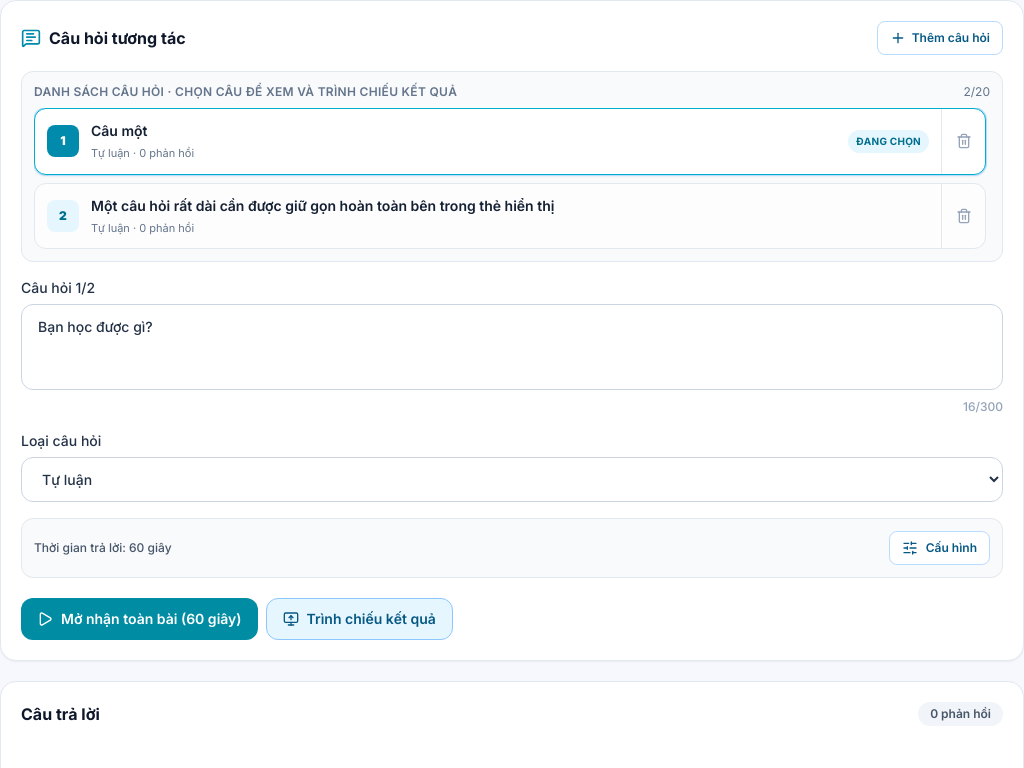
Test case: keeps long questions inside cards and confirms before deleting
The image size is (1024, 768).
Click the button named "Xóa câu hỏi 2" at (963, 216), box [941,184,985,248]
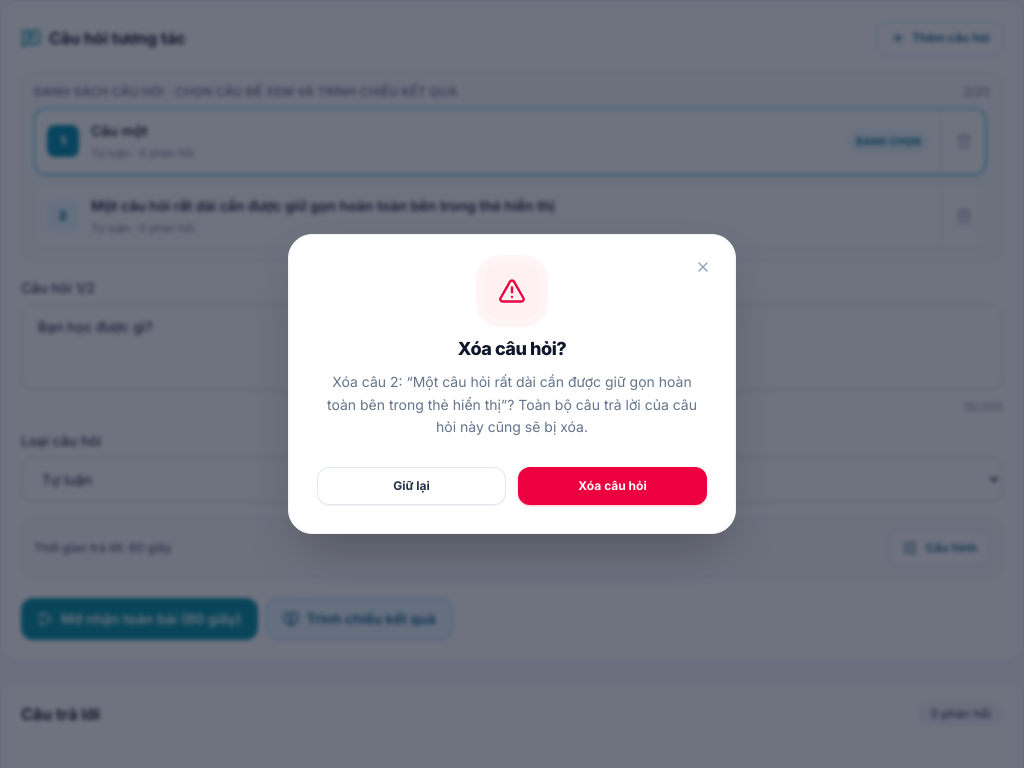
expect the text "Toàn bộ câu trả lời" is shown: met, box [327,373,697,435]
Click the button "Xóa câu hỏi" at (612, 486), box [518,467,707,505]
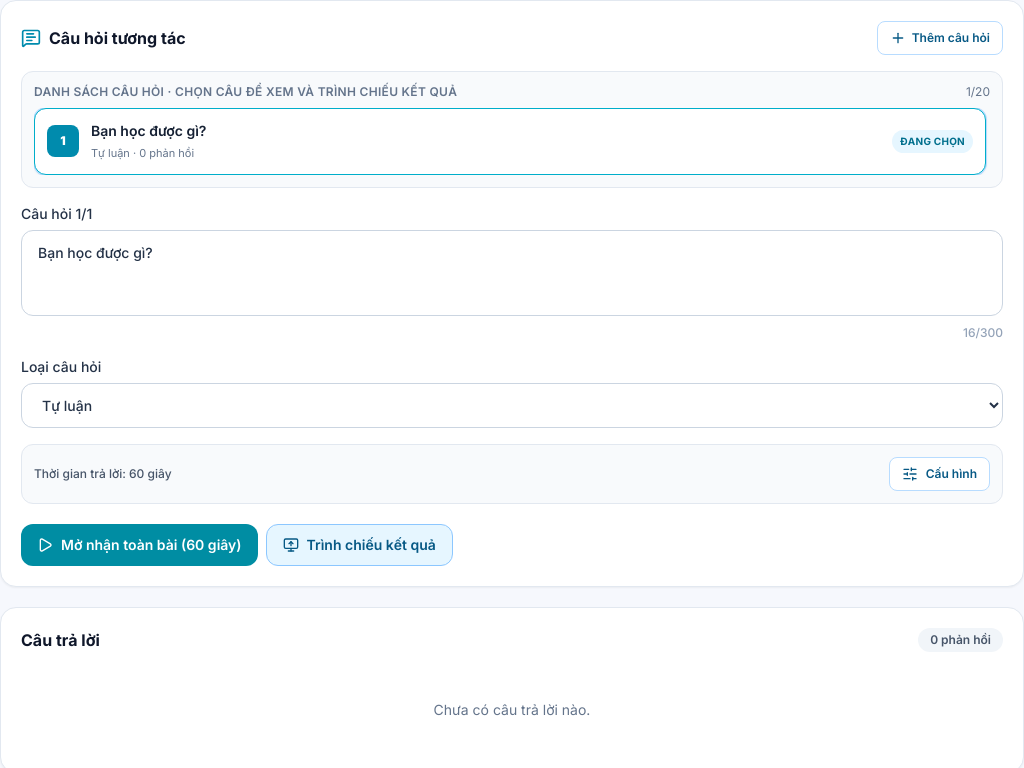
expect the heading "Xóa câu hỏi?" is gone: met
